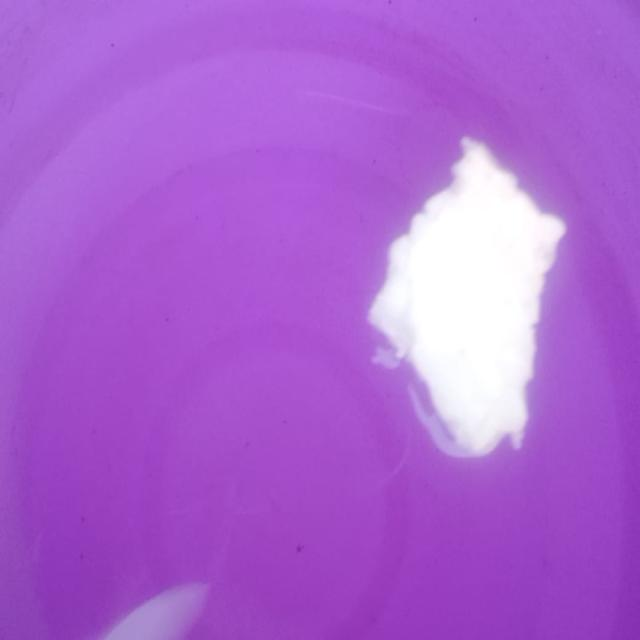thermocoal: (357, 123, 572, 473)
